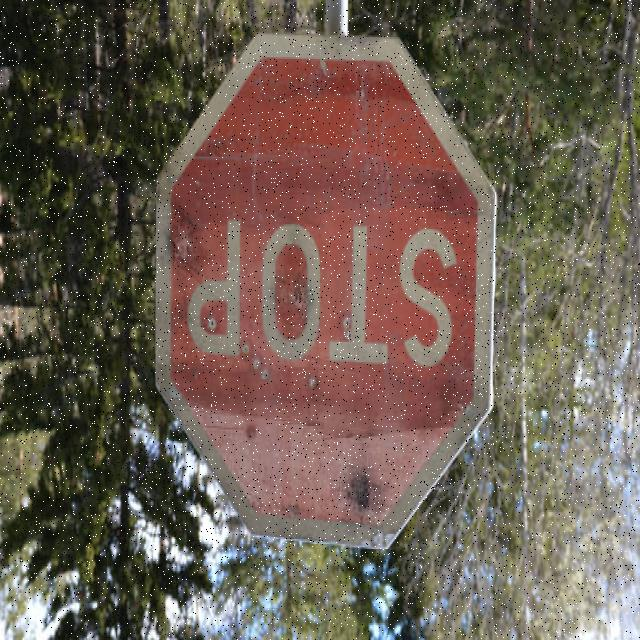stop: (146, 26, 502, 552)
